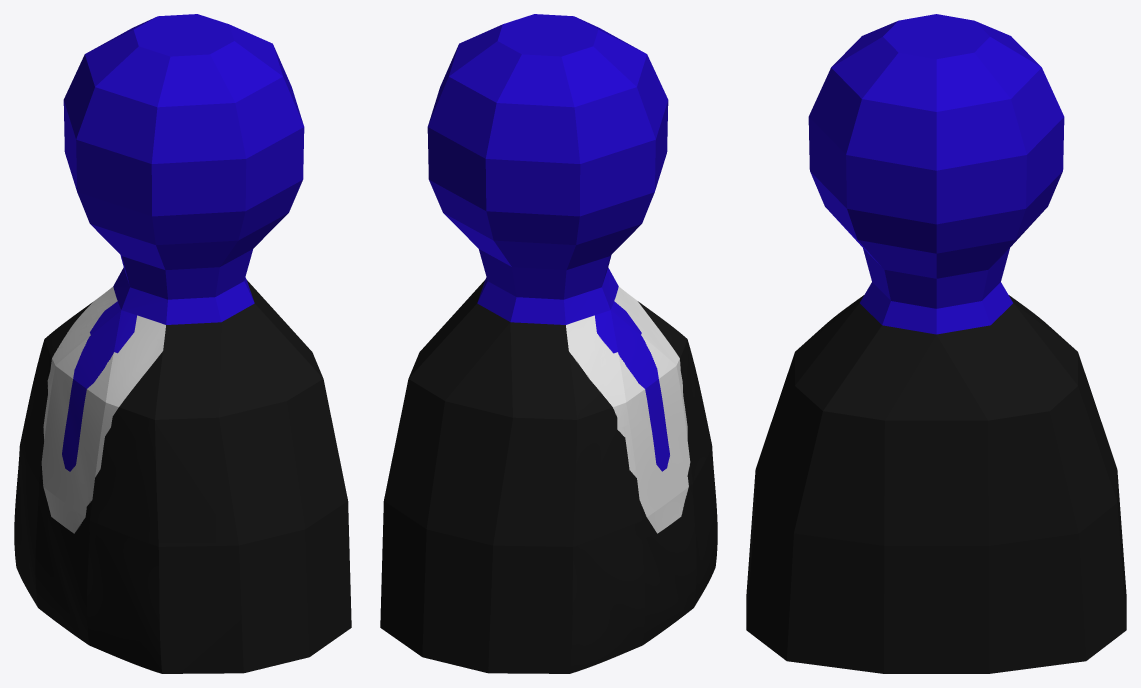
File: blaue_figur.fbx
3 views of the same model, side by side, from view 1: azimuth 30°, elevation 25°; view 2: azimuth 150°, elevation 25°; view 3: azimuth 270°, elevation 25° (orthographic). The views are drawn at different scales.
Parts seen in each view (by area): view 1: pawn_D_red; view 2: pawn_D_red; view 3: pawn_D_red.
Part boxes in pixels (x1=…): pawn_D_red: x1=14, y1=14, x2=351, y2=673; pawn_D_red: x1=380, y1=14, x2=717, y2=673; pawn_D_red: x1=746, y1=14, x2=1126, y2=673.
Size of the model in its own units: 41.89 by 92.32 by 55.1.
